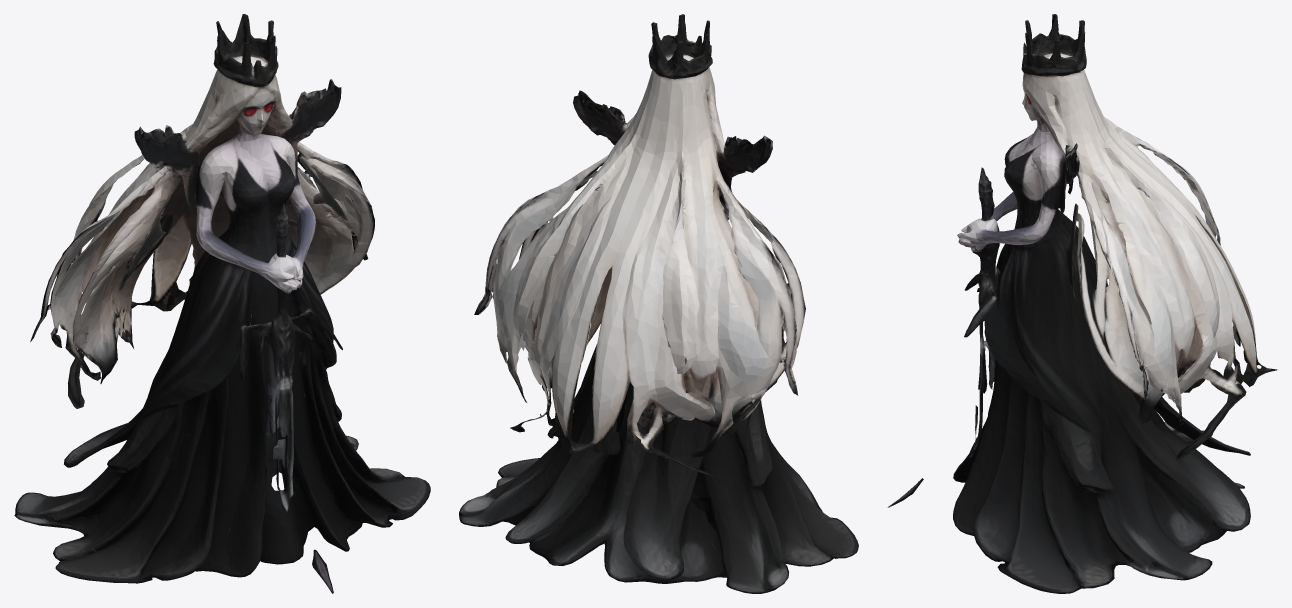
The model's file is lucie-demon-queen.glb.
The picture shows the model from 3 angles, left to right: view 1: azimuth 30°, elevation 25°; view 2: azimuth 150°, elevation 25°; view 3: azimuth 270°, elevation 25°; orthographic projection. The views are drawn at different scales.
Visible parts, largest first — view 1: world; view 2: world; view 3: world.
Part boxes in pixels (x1,y1,x2,y2): world: [14, 14, 430, 593]; world: [459, 14, 858, 593]; world: [887, 14, 1277, 593].
Bounding box in the file's own units: 0.769 × 1 × 0.7349.
1 material, 1 textured.
